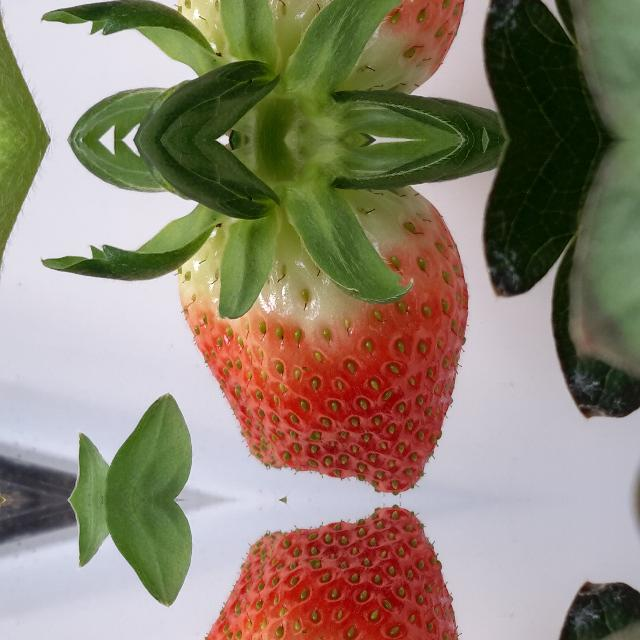Health_75: (174, 184, 470, 496), (174, 504, 470, 640), (174, 0, 470, 95)
